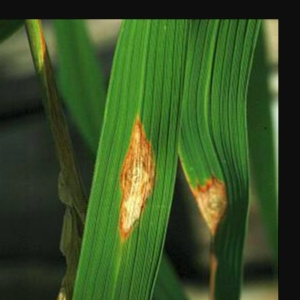Brown_Spot: (101, 107, 160, 253), (182, 174, 246, 243)
